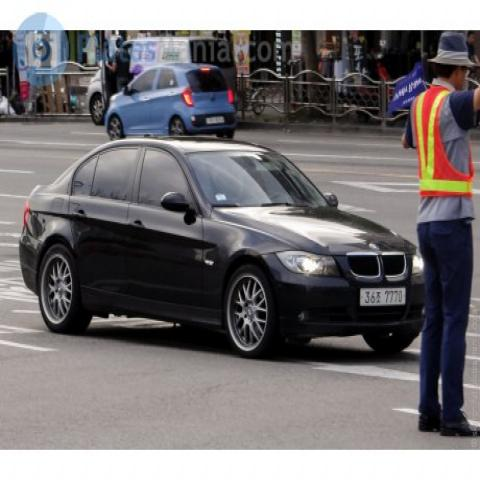LP: (358, 282, 407, 310)
